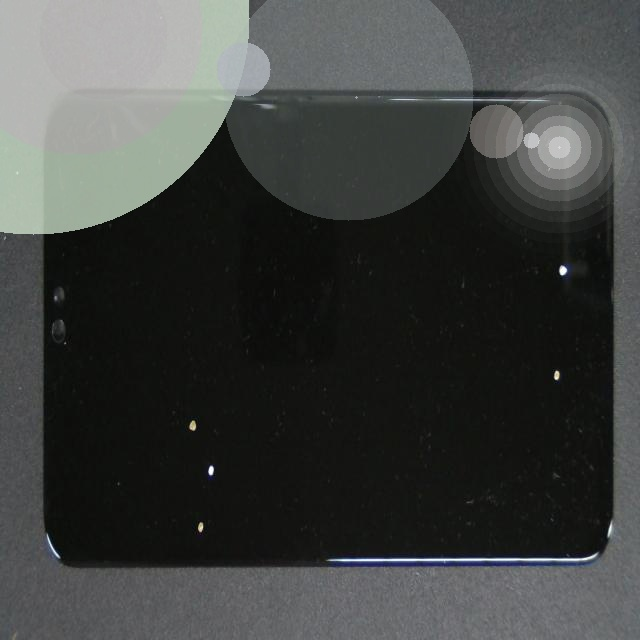stain: (299, 182, 640, 541), (116, 271, 336, 640), (308, 157, 640, 388), (121, 217, 301, 612), (140, 262, 316, 640)
